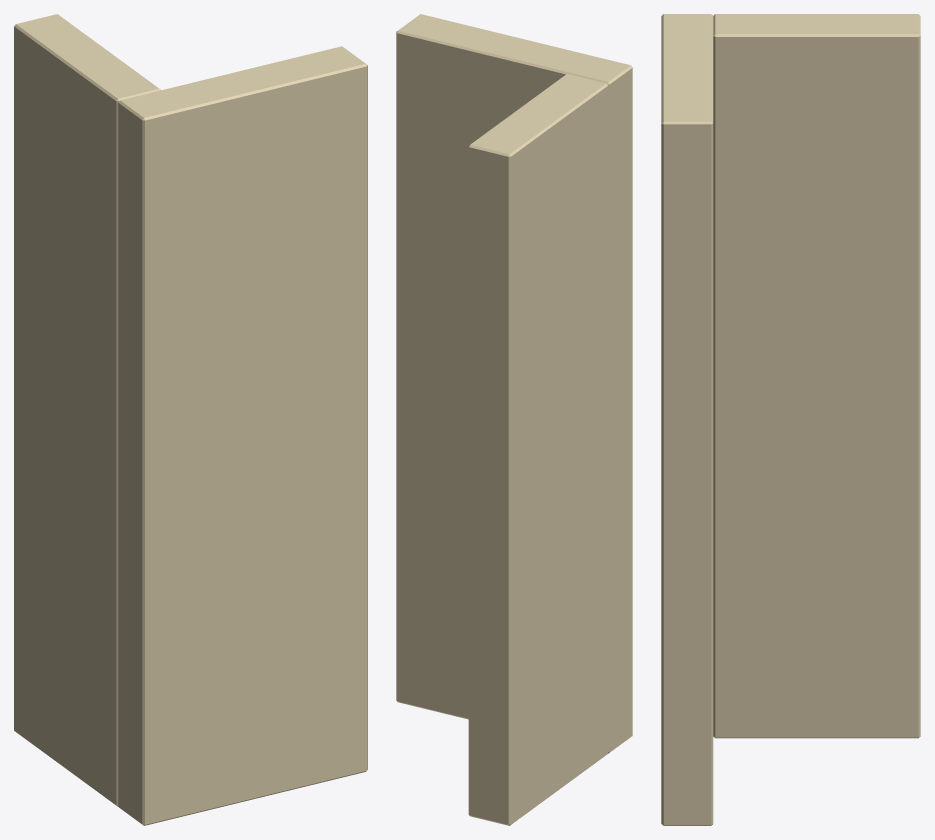
Rendered from b21_wall_corner_1m.glb.
3 views of the same model, side by side, from view 1: azimuth 30°, elevation 25°; view 2: azimuth 150°, elevation 25°; view 3: azimuth 270°, elevation 25° (orthographic). The views are drawn at different scales.
Parts seen in each view (by area): view 1: b21_wall_corner_1m; view 2: b21_wall_corner_1m; view 3: b21_wall_corner_1m.
Boxes of the visible parts, left/top/right/bottom form: b21_wall_corner_1m: left=14, top=14, right=367, bottom=825; b21_wall_corner_1m: left=396, top=14, right=632, bottom=825; b21_wall_corner_1m: left=661, top=14, right=920, bottom=825.
Bounding box in the file's own units: 1 × 3 × 1.
